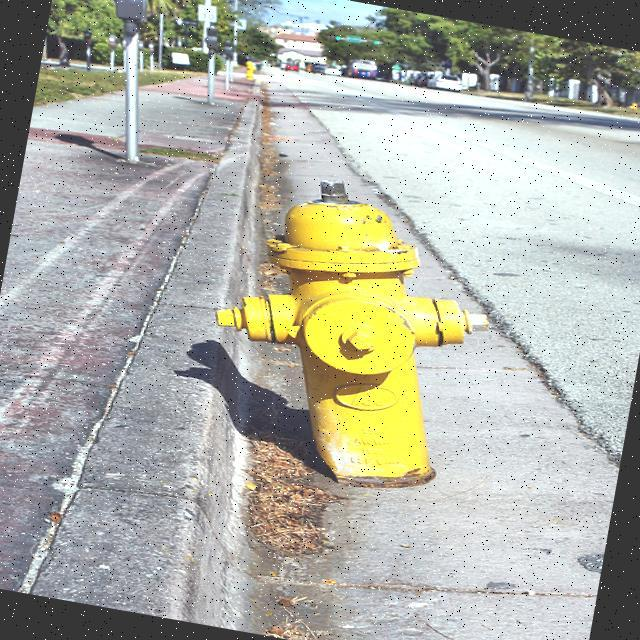fire_hydrant: (183, 162, 510, 506), (242, 59, 256, 80), (627, 100, 638, 112)
